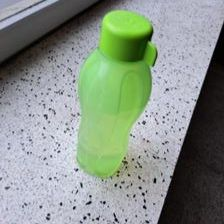bottle: (74, 8, 159, 176)
